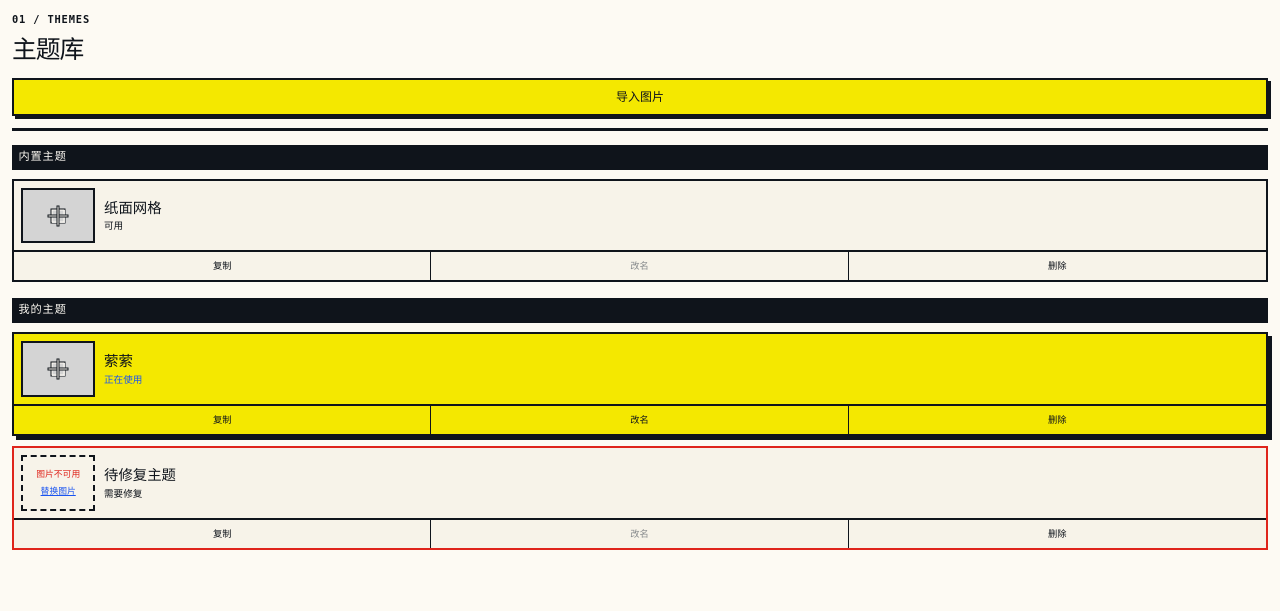
Test: ThemeLibrary › shows a visible error when a theme replacement picker cannot open
Click the button with aria-label "替换 待修复主题 的图片" at (58,492), box [36,485,80,498]
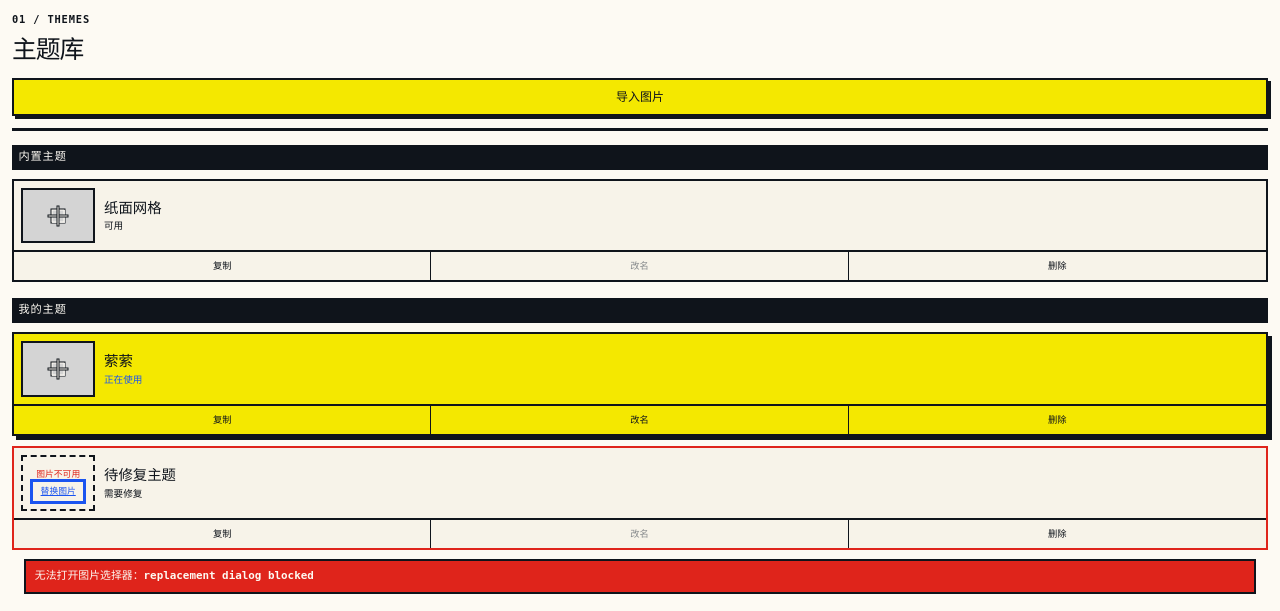
Expected: the message reads "无法打开图片选择器：replacement dialog blocked", [24,559,1256,594]
